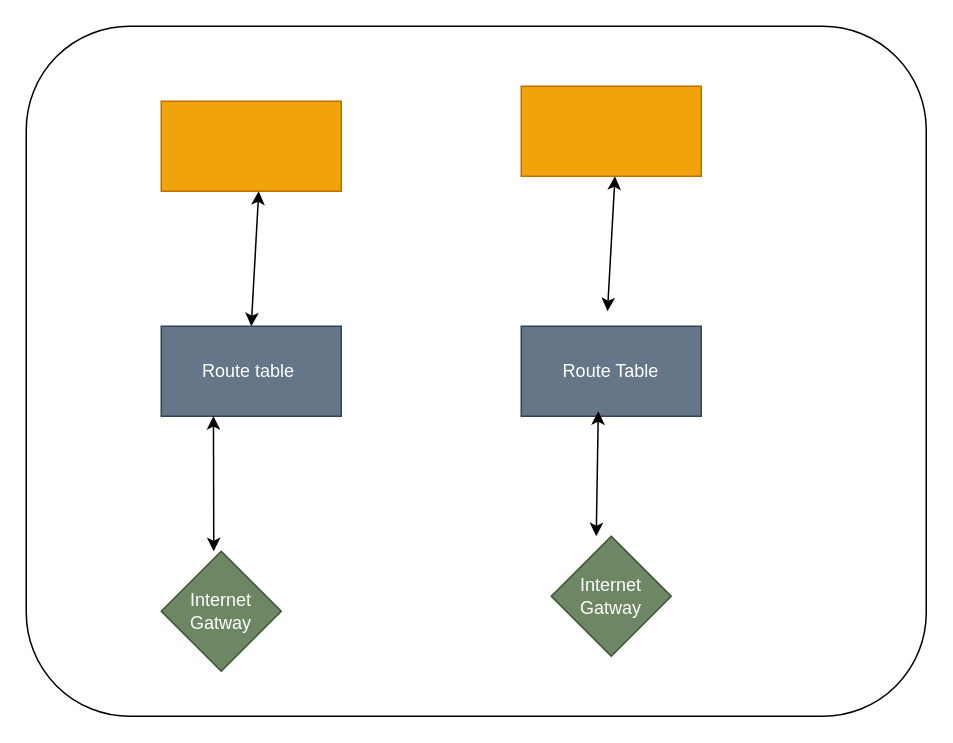
This 953x743 diagram has some shape labels left out. Each missing label, with the box of its shape:
Private Subnet: (520, 85, 701, 176)
Public Subnet: (160, 100, 341, 191)
